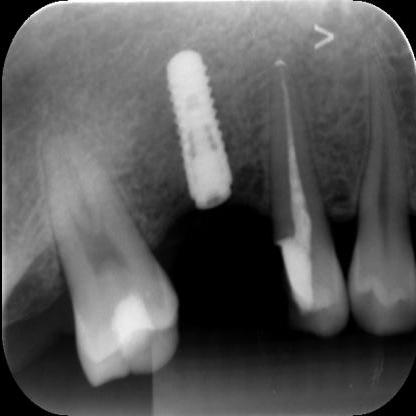ITI: (151, 39, 239, 239)
